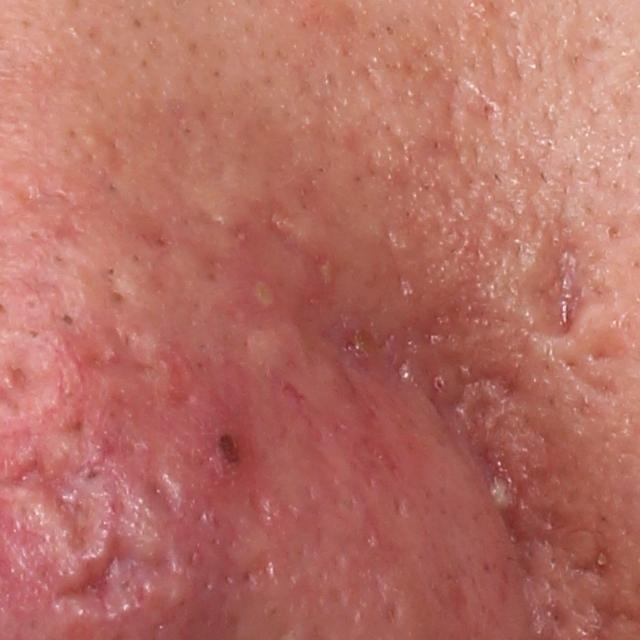atrophic_scar: (56, 493, 166, 612), (6, 447, 96, 556), (526, 224, 595, 341), (103, 417, 185, 515), (72, 316, 166, 386), (57, 410, 119, 492), (569, 524, 626, 589)
comedo: (57, 307, 77, 328)
papule: (182, 405, 256, 483), (300, 235, 345, 297)
pustule: (243, 272, 291, 319), (483, 471, 521, 518)
